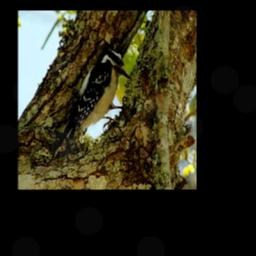Woodpecker: (52, 43, 131, 155)
